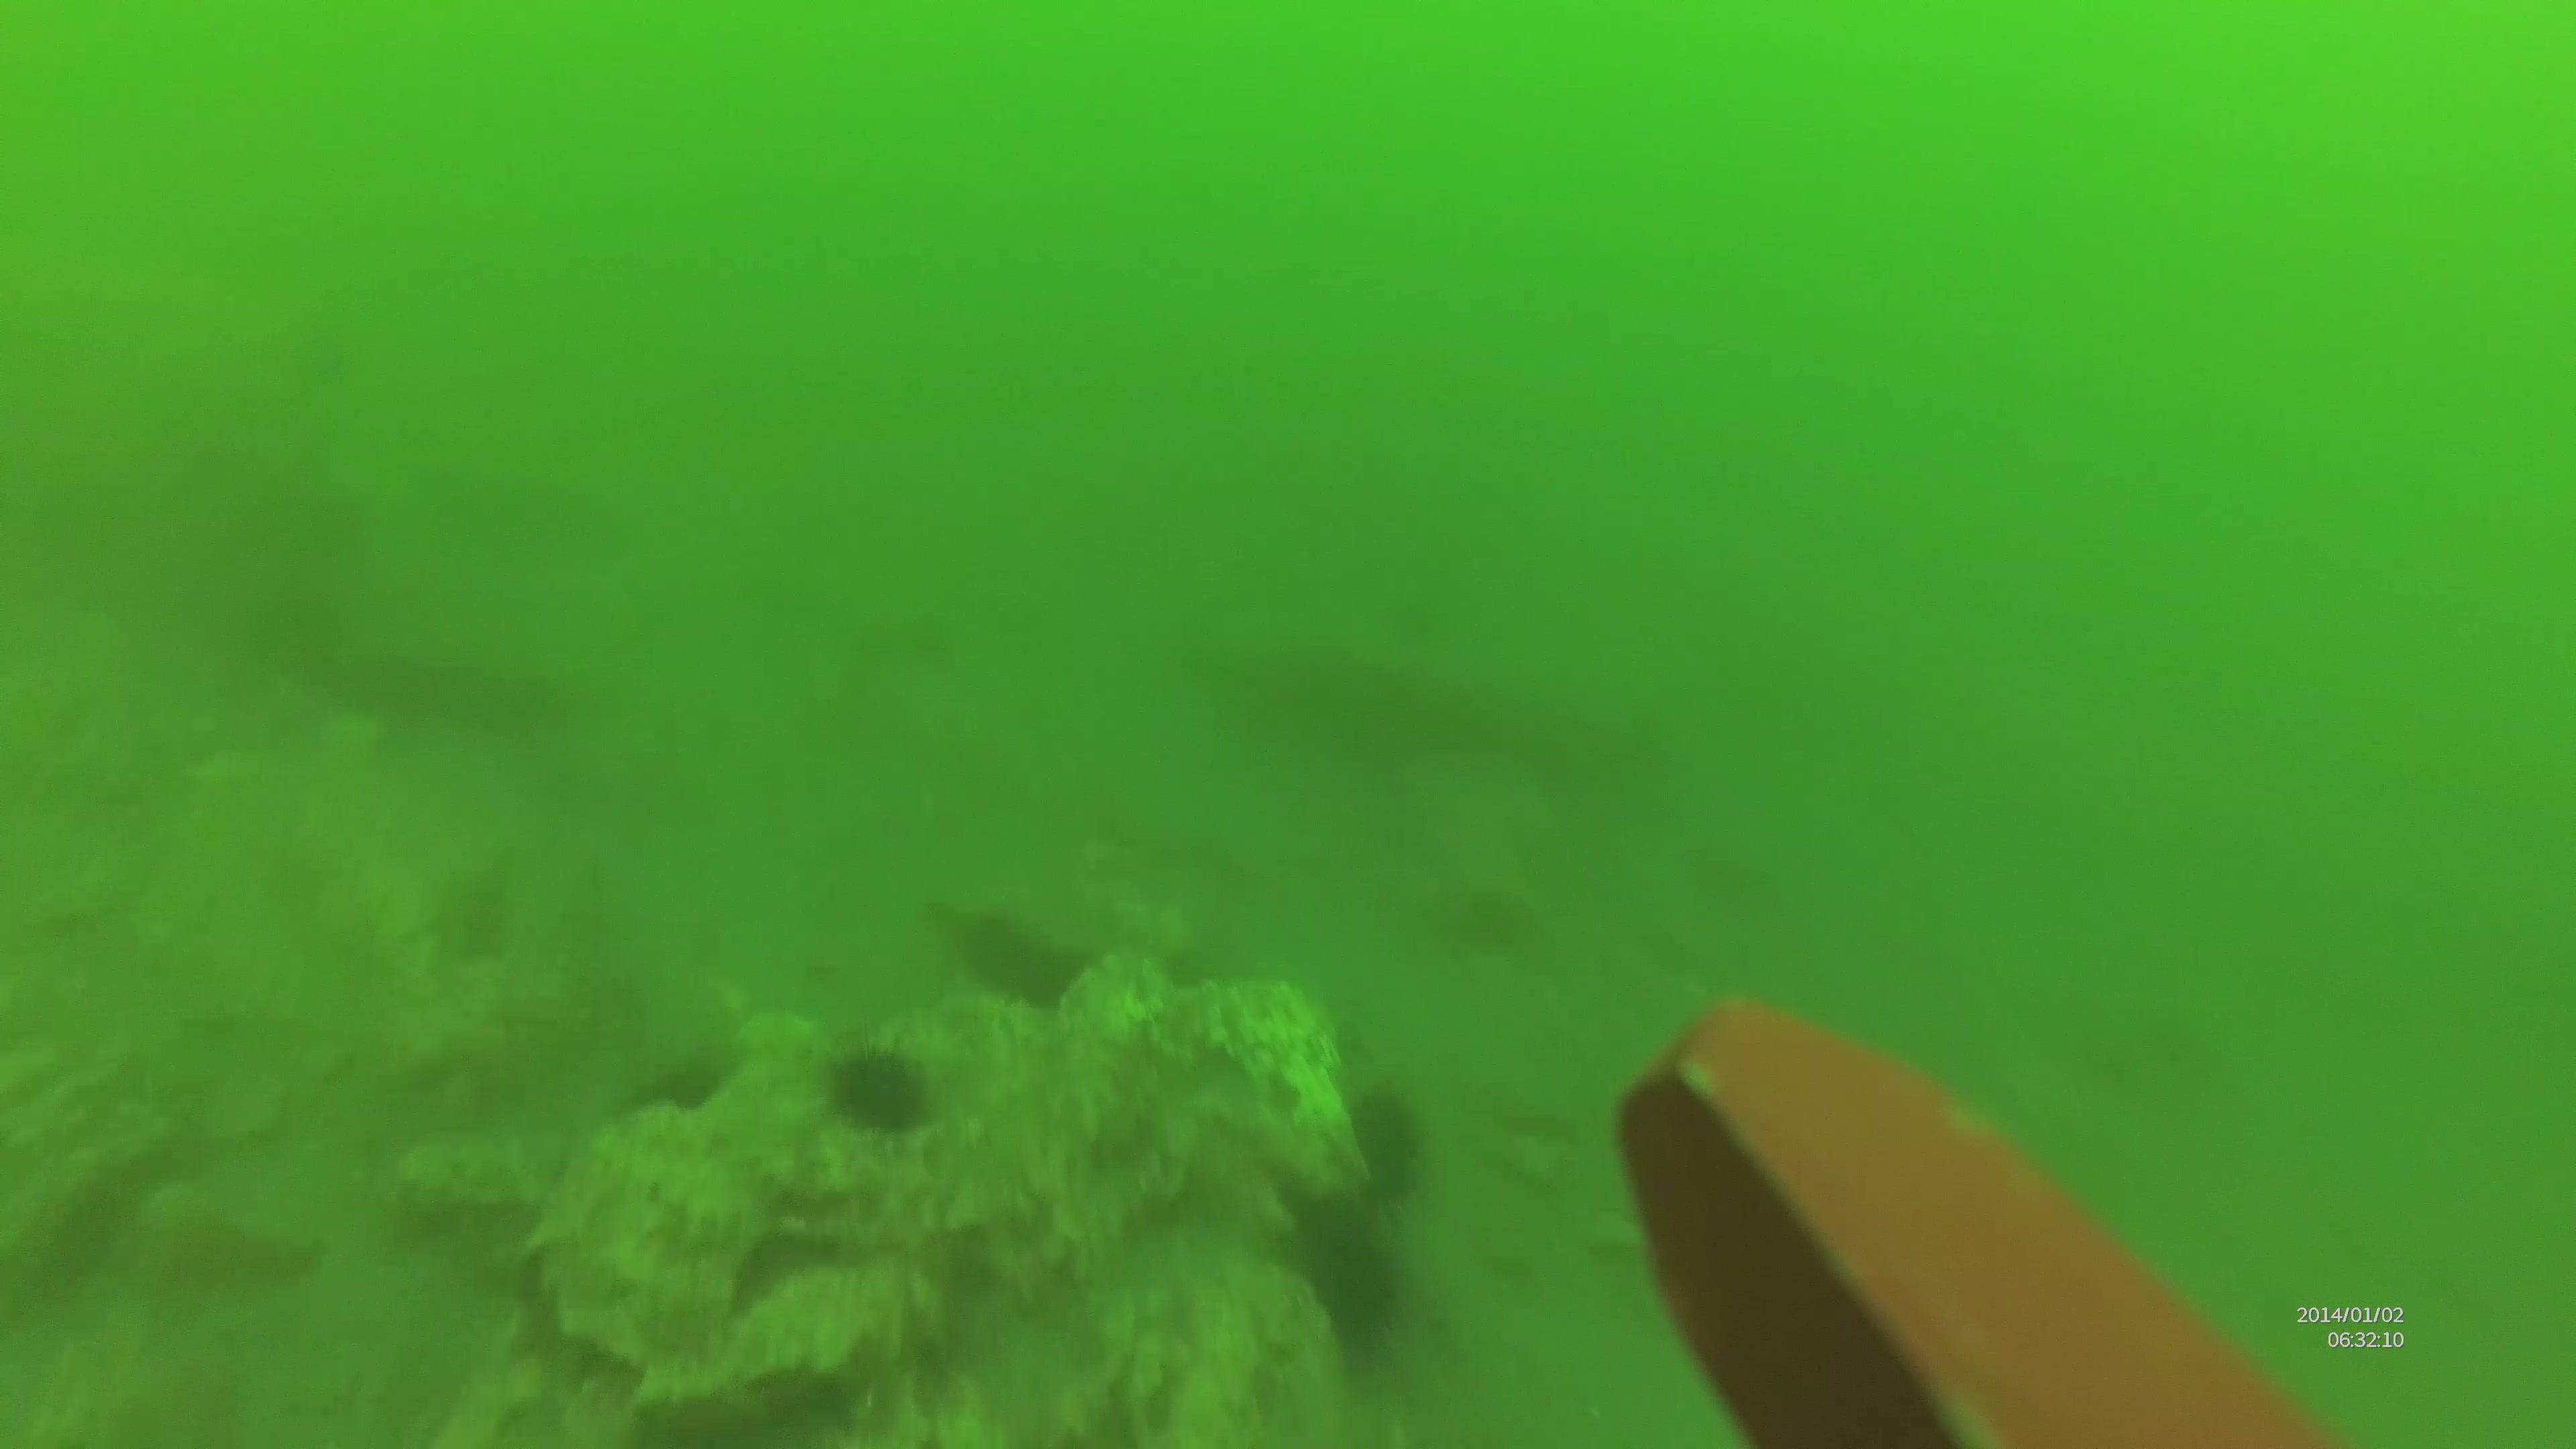echinus: (1247, 1205, 1407, 1364), (1307, 1079, 1417, 1196), (819, 1040, 932, 1139)
